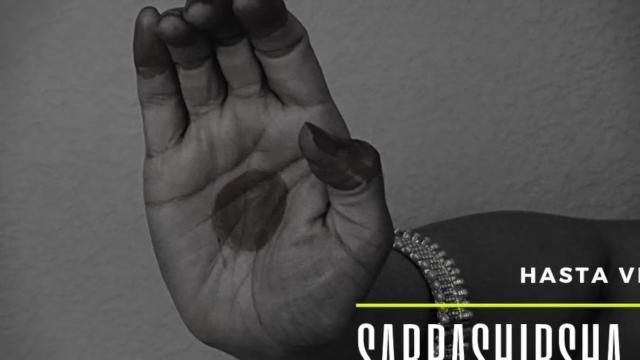sarpsheesh: (122, 0, 416, 356)
